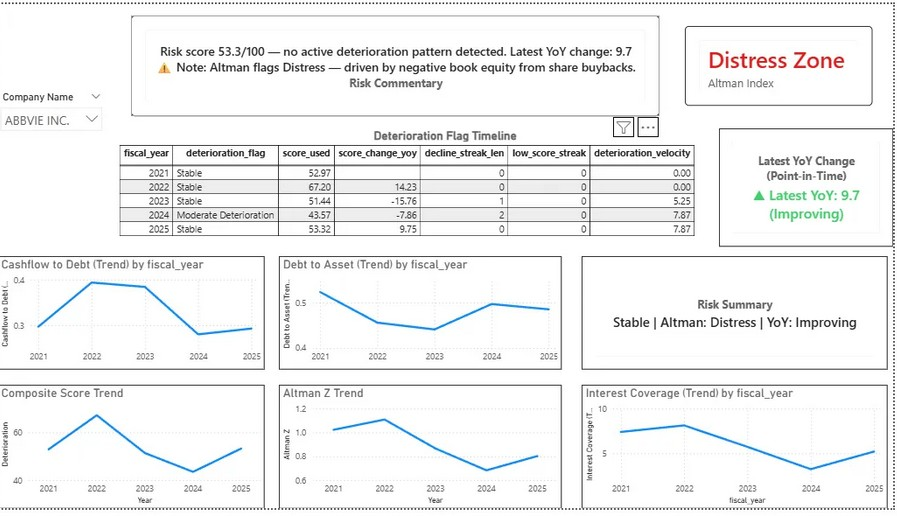

Layout of this report page (visuals, bound fields, positions):
{"tool":"powerbi","page":{"name":"Company Deep Dive","canvas":[1280,720],"ordinal":1},"visuals":[{"type":"slicer","fields":{"Values":["public company_master.entity"]},"box":[0,6.7,155.6,68.9],"z":0},{"type":"lineChart","title":"Composite Score Trend","fields":{"Category":["public dim_year.year_label"],"Y":["Median(public deterioration_results.score_used)"]},"box":[0,543.3,382.2,176.7],"z":1000},{"type":"lineChart","title":"Altman Z Trend","fields":{"Category":["public dim_year.year_label"],"Y":["Median(public altman_validation.altman_z)"]},"box":[402.2,543.3,404.4,176.7],"z":2000},{"type":"cardVisual","fields":{"Data":["_Measures.Altman Index"]},"box":[0,80,267.8,97.8],"z":3000},{"type":"tableEx","title":"Deterioration Flag Timeline","fields":{"Values":["public deterioration_results.fiscal_year","public deterioration_results.deterioration_flag","public deterioration_results.score_used","public deterioration_results.score_change_yoy","public deterioration_results.decline_streak_len","public deterioration_results.low_score_streak","public deterioration_results.deterioration_velocity"]},"box":[172.2,177.8,934.4,174.4],"z":4000},{"type":"lineChart","fields":{"Category":["public risk_scores.fiscal_year"],"Y":["_Measures.Debt to Asset (Trend)"]},"box":[402.2,360,404.4,162.2],"z":5000},{"type":"lineChart","fields":{"Category":["public risk_scores.fiscal_year"],"Y":["_Measures.Interest Coverage (Trend)"]},"box":[834.4,543.3,436.7,176.7],"z":6000},{"type":"lineChart","fields":{"Category":["public risk_scores.fiscal_year"],"Y":["_Measures.Cashflow to Debt (Trend)"]},"box":[0,360,382.2,162.2],"z":7000},{"type":"cardVisual","fields":{"Data":["_Measures.Risk Commentary"]},"box":[307.8,22.2,754.4,144.4],"z":8000},{"type":"cardVisual","fields":{"Data":["_Measures.Risk Summary"]},"box":[834.4,360,436.7,162.2],"z":9000},{"type":"cardVisual","fields":{"Data":["_Measures.YoY Direction + Value"]},"box":[1031.1,177.8,248.9,168.9],"z":10000}]}

Visuals, with their boxes in screenshot pixels (x1, y1, x2, y2), scaled from the page's 1280x720 canvas onto the 897x516 screenshot:
slicer - public company_master.entity: box(0, 5, 109, 54)
"Composite Score Trend" lineChart: box(0, 389, 268, 515)
"Altman Z Trend" lineChart: box(282, 389, 565, 515)
cardVisual - _Measures.Altman Index: box(0, 57, 188, 127)
"Deterioration Flag Timeline" tableEx: box(121, 127, 775, 252)
lineChart - public risk_scores.fiscal_year x _Measures.Debt to Asset (Trend): box(282, 258, 565, 374)
lineChart - public risk_scores.fiscal_year x _Measures.Interest Coverage (Trend): box(585, 389, 891, 515)
lineChart - public risk_scores.fiscal_year x _Measures.Cashflow to Debt (Trend): box(0, 258, 268, 374)
cardVisual - _Measures.Risk Commentary: box(216, 16, 744, 119)
cardVisual - _Measures.Risk Summary: box(585, 258, 891, 374)
cardVisual - _Measures.YoY Direction + Value: box(723, 127, 896, 248)
